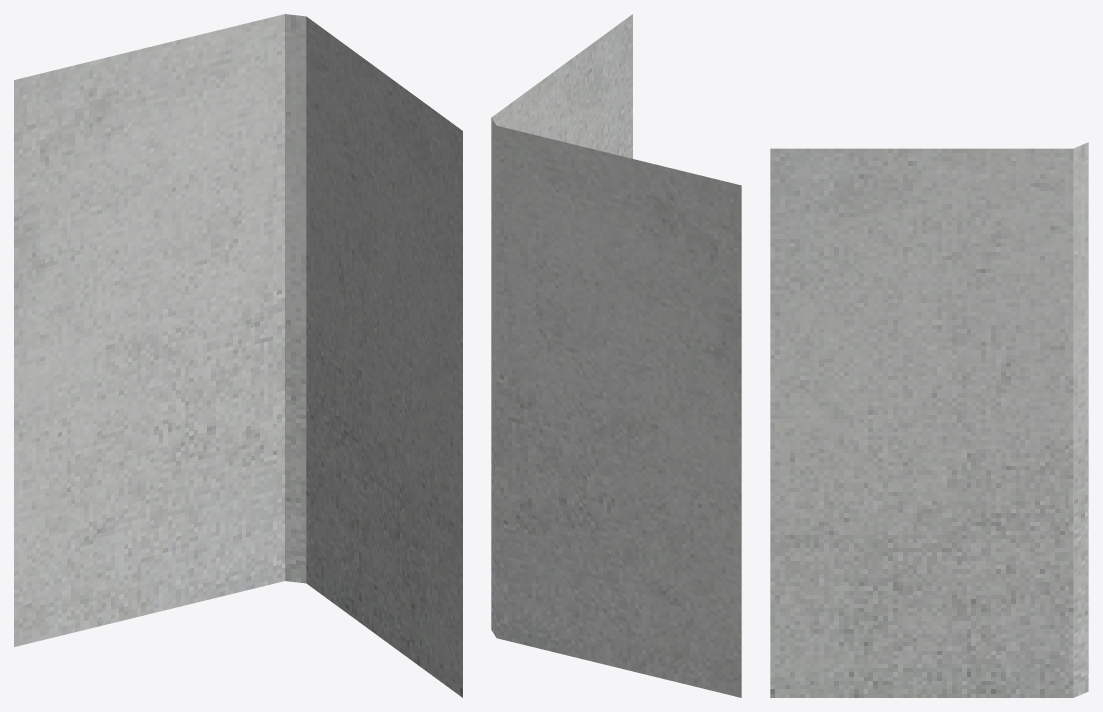
File: wallTurnPlaster.glb
3 views of the same model, side by side, from view 1: azimuth 30°, elevation 25°; view 2: azimuth 150°, elevation 25°; view 3: azimuth 270°, elevation 25° (orthographic). The views are drawn at different scales.
Visible parts, largest first — view 1: wallTurnPlaster; view 2: wallTurnPlaster; view 3: wallTurnPlaster.
Boxes of the visible parts, bbox=[...] form: wallTurnPlaster: bbox=[14, 14, 462, 697]; wallTurnPlaster: bbox=[491, 14, 741, 697]; wallTurnPlaster: bbox=[770, 142, 1088, 697].
Bounding box in the file's own units: 2.1 × 4 × 2.1.
1 material, 1 textured.
